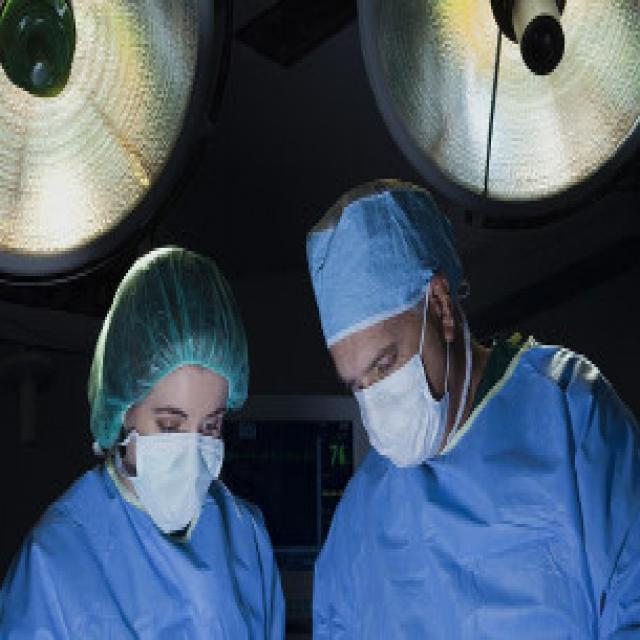mask: (338, 332, 451, 464), (130, 374, 223, 530)
